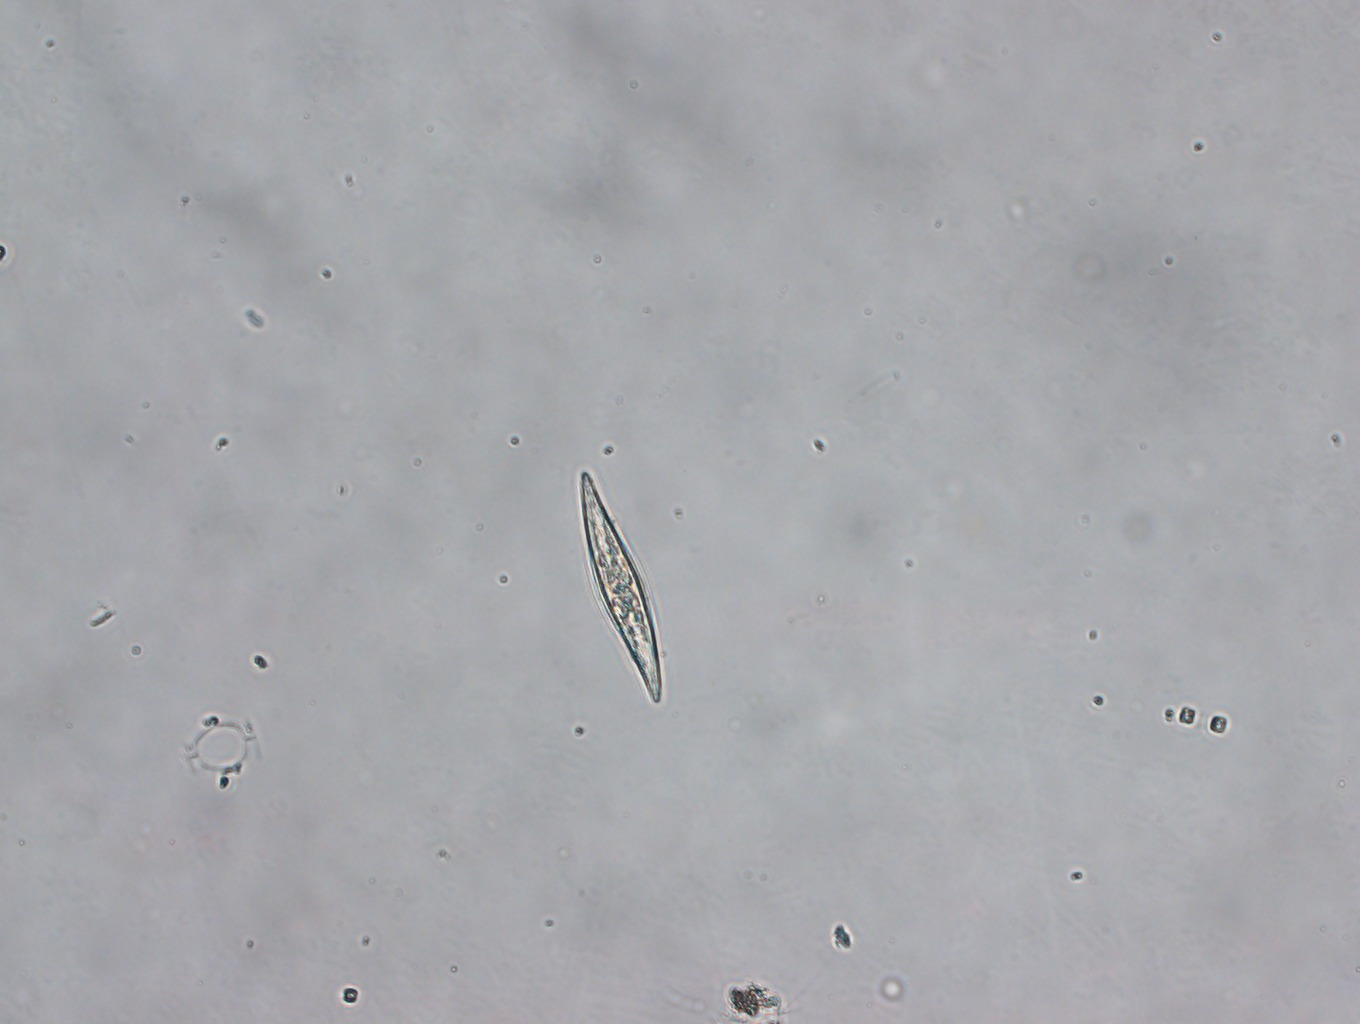pleurosigma pelagicum: (576, 468, 664, 705)
